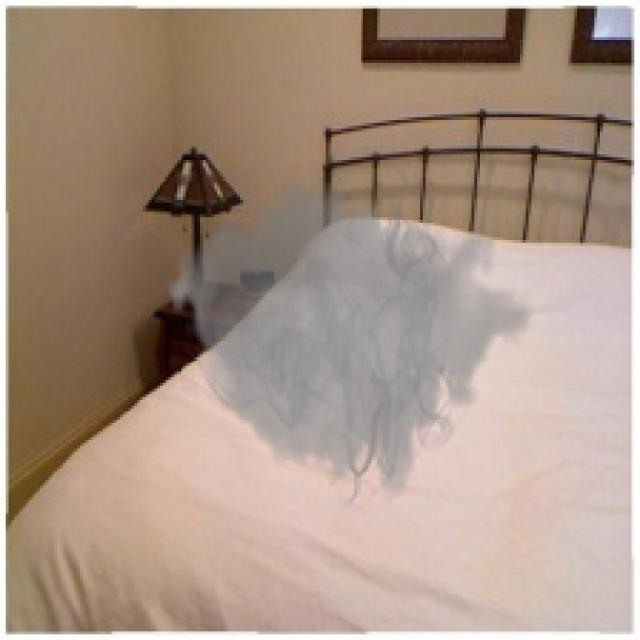smoke: (166, 143, 534, 511)
